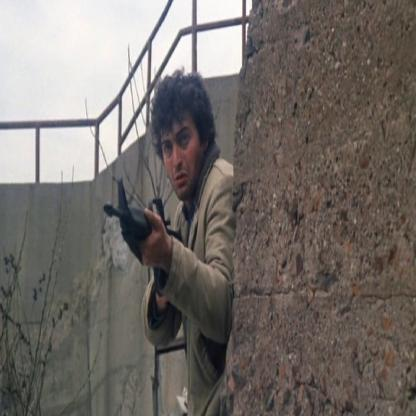gun: (107, 167, 161, 265)
